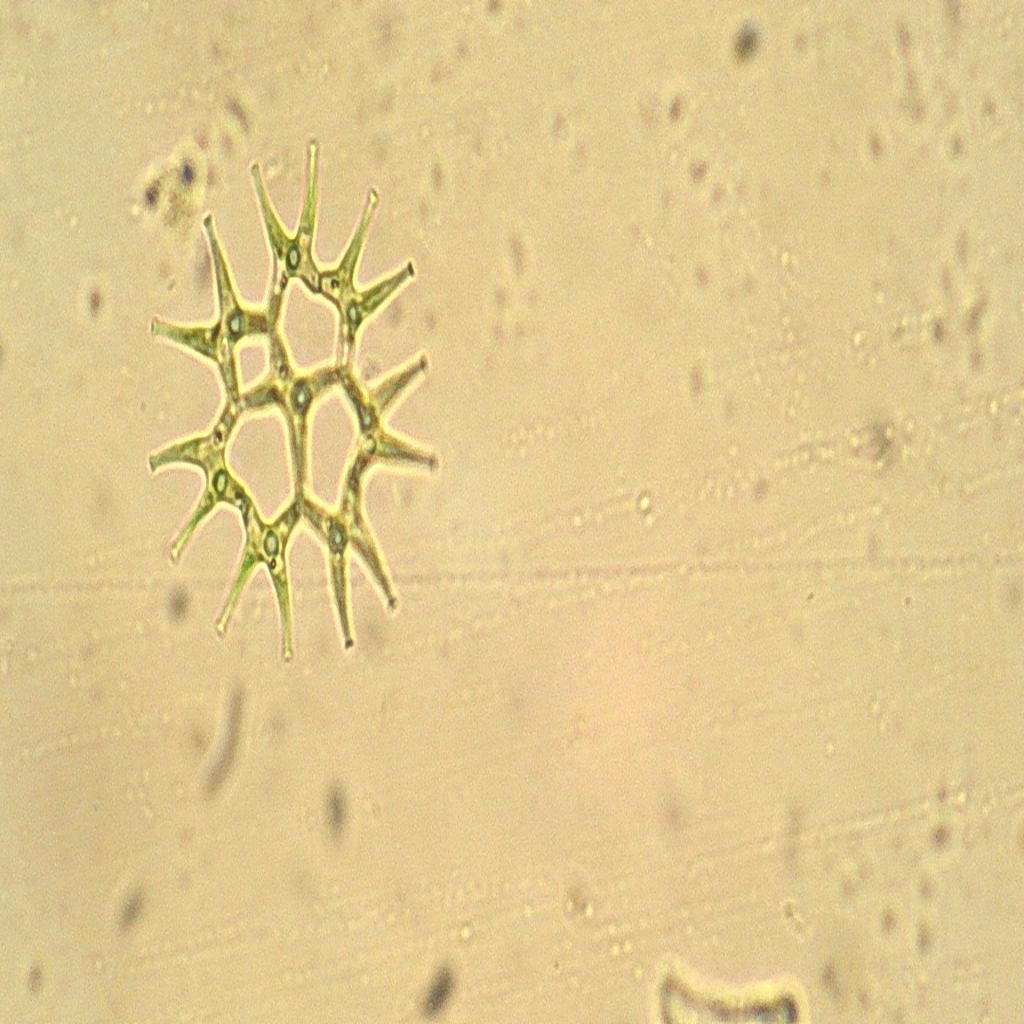Pediastrum_CTH: (146, 142, 445, 664)
